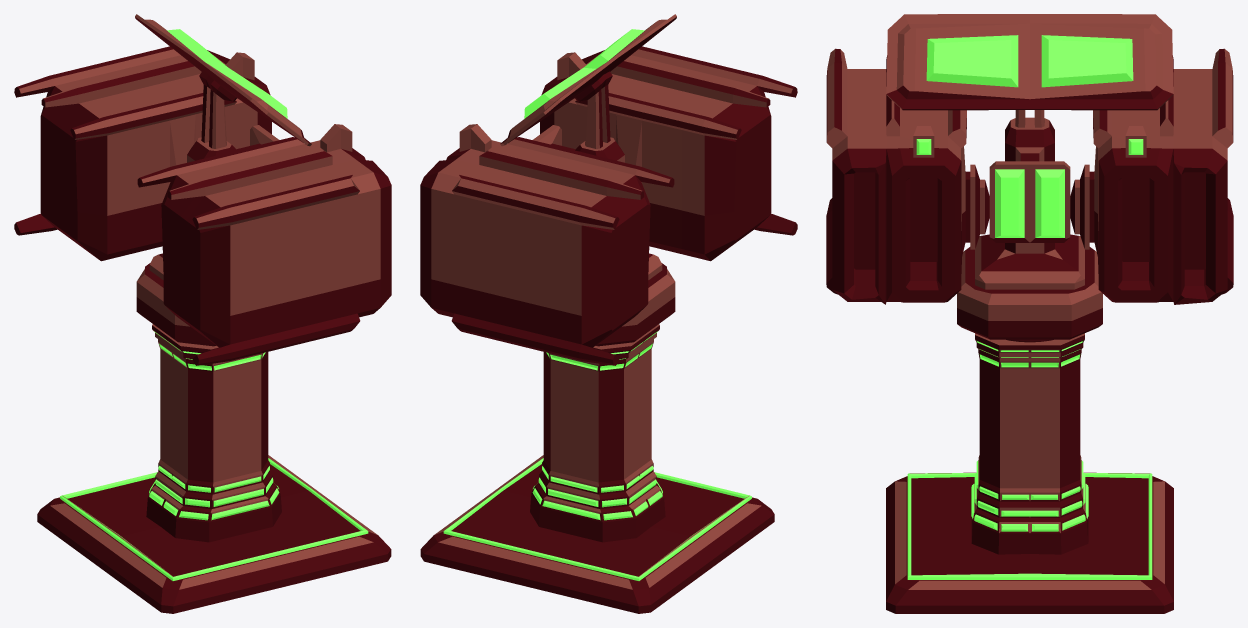
The model's file is MissileTower2.fbx.
3 views of the same model, side by side, from view 1: azimuth 30°, elevation 25°; view 2: azimuth 150°, elevation 25°; view 3: azimuth 270°, elevation 25° (orthographic). The views are drawn at different scales.
Parts seen in each view (by area): view 1: Cube, base, pillar; view 2: Cube, base, pillar; view 3: Cube, base, pillar.
Boxes of the visible parts, box(x1,y1,x2,y2) form: Cube: box(14, 14, 391, 365); base: box(37, 455, 391, 613); pillar: box(146, 324, 281, 542); Cube: box(420, 14, 797, 365); base: box(420, 455, 774, 613); pillar: box(530, 324, 665, 542); Cube: box(826, 14, 1233, 339); base: box(886, 472, 1173, 613); pillar: box(971, 333, 1088, 554).
Size of the model in its own units: 283 by 406 by 200.
